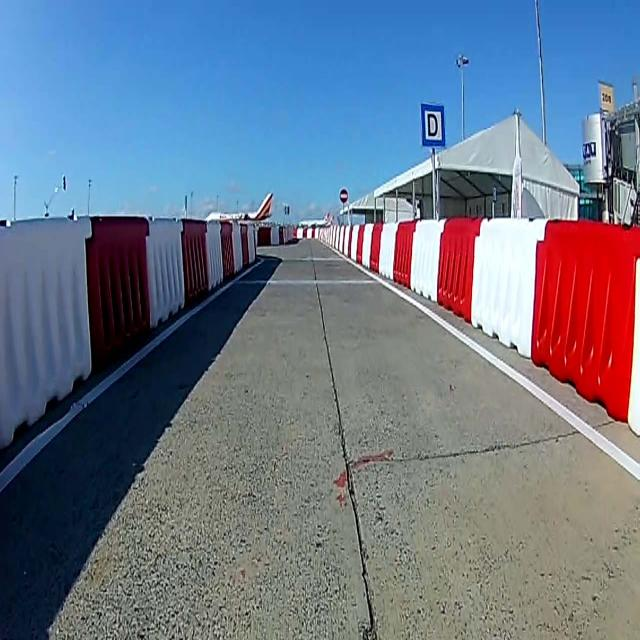durak: (420, 103, 446, 149)
girisyok: (339, 185, 347, 205)
